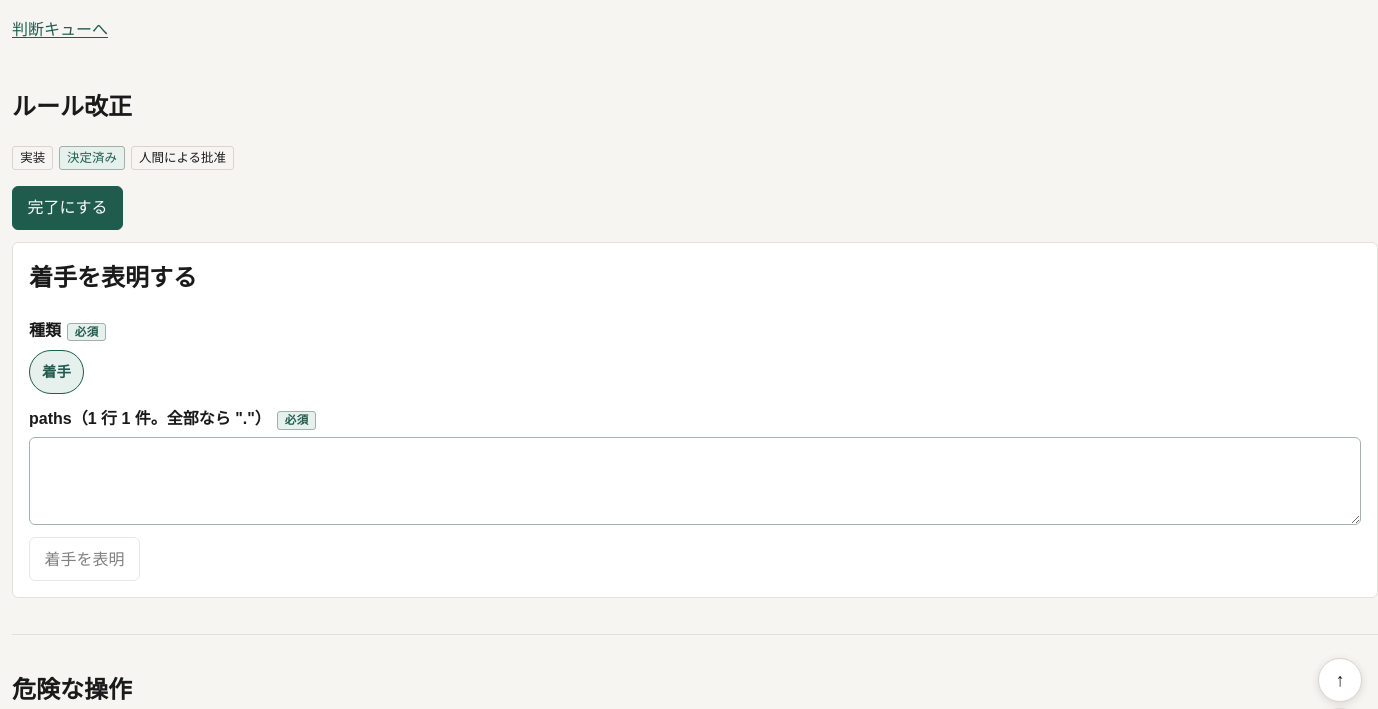
it: ThreadPage › disables completion while a declaration is in flight
Expected: the heading "ルール改正" is shown, [12, 93, 132, 120]
Click the button "完了にする": (68,208) [12, 186, 123, 230]
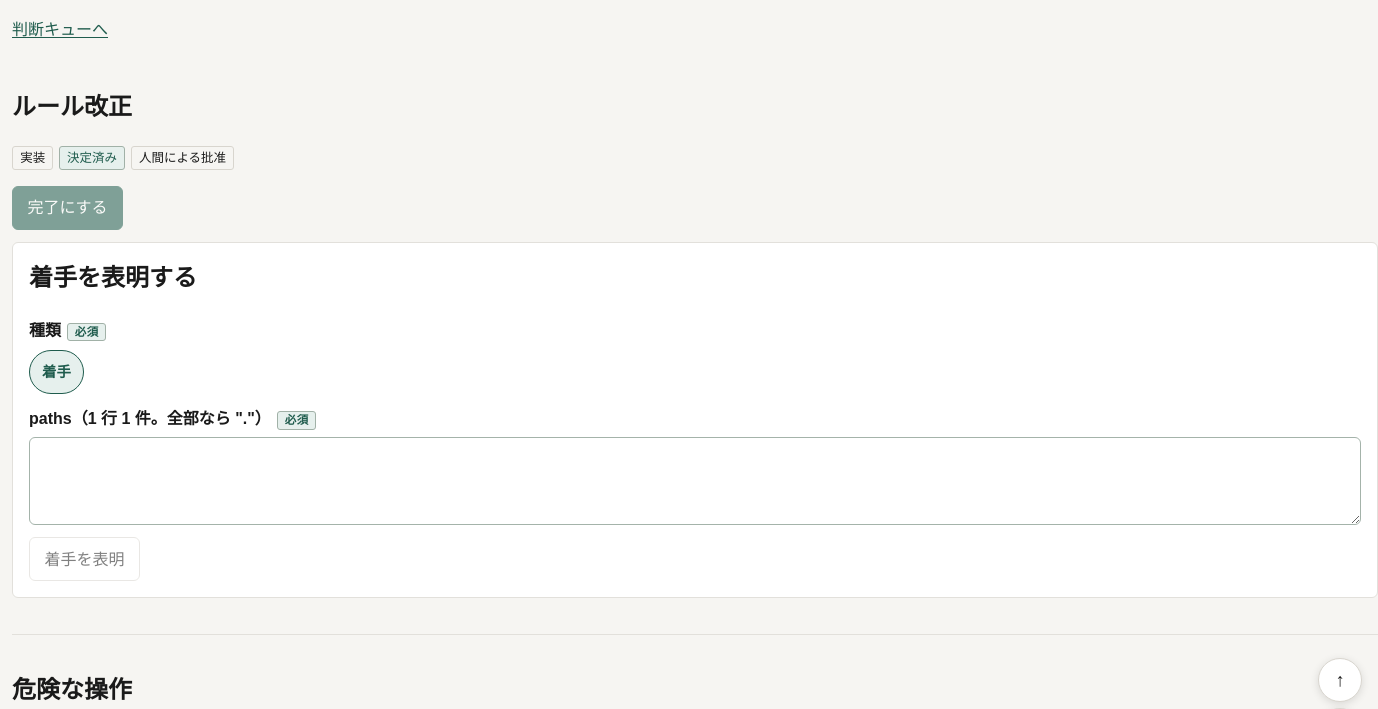
Now the button "完了にする" is disabled, box [12, 186, 123, 230]
